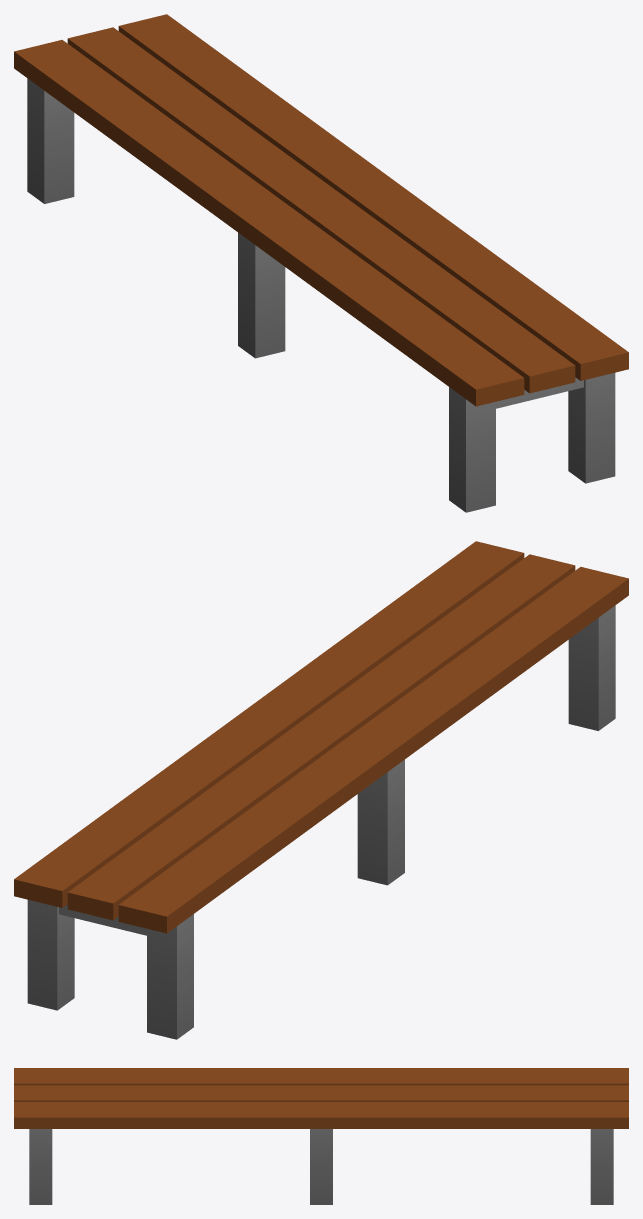
Rendered from Bench_1_A_3.glb.
The picture shows the model from 3 angles, top to bottom: view 1: azimuth 30°, elevation 25°; view 2: azimuth 150°, elevation 25°; view 3: azimuth 270°, elevation 25°; orthographic projection. The views are drawn at different scales.
Visible parts, largest first — view 1: Bench_1_A_3; view 2: Bench_1_A_3; view 3: Bench_1_A_3.
Boxes of the visible parts, x1=… form: Bench_1_A_3: x1=14, y1=14, x2=628, y2=512; Bench_1_A_3: x1=14, y1=541, x2=628, y2=1039; Bench_1_A_3: x1=14, y1=1068, x2=628, y2=1204.
Bounding box in the file's own units: 0.4068 × 0.3354 × 2.13.
Materials: 2 (2 with a texture image).
